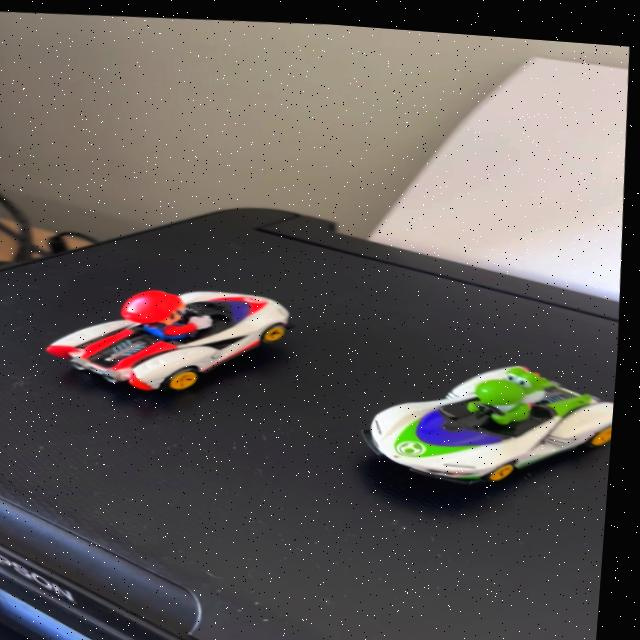mario: (30, 268, 327, 415)
yoshi: (349, 333, 622, 501)
